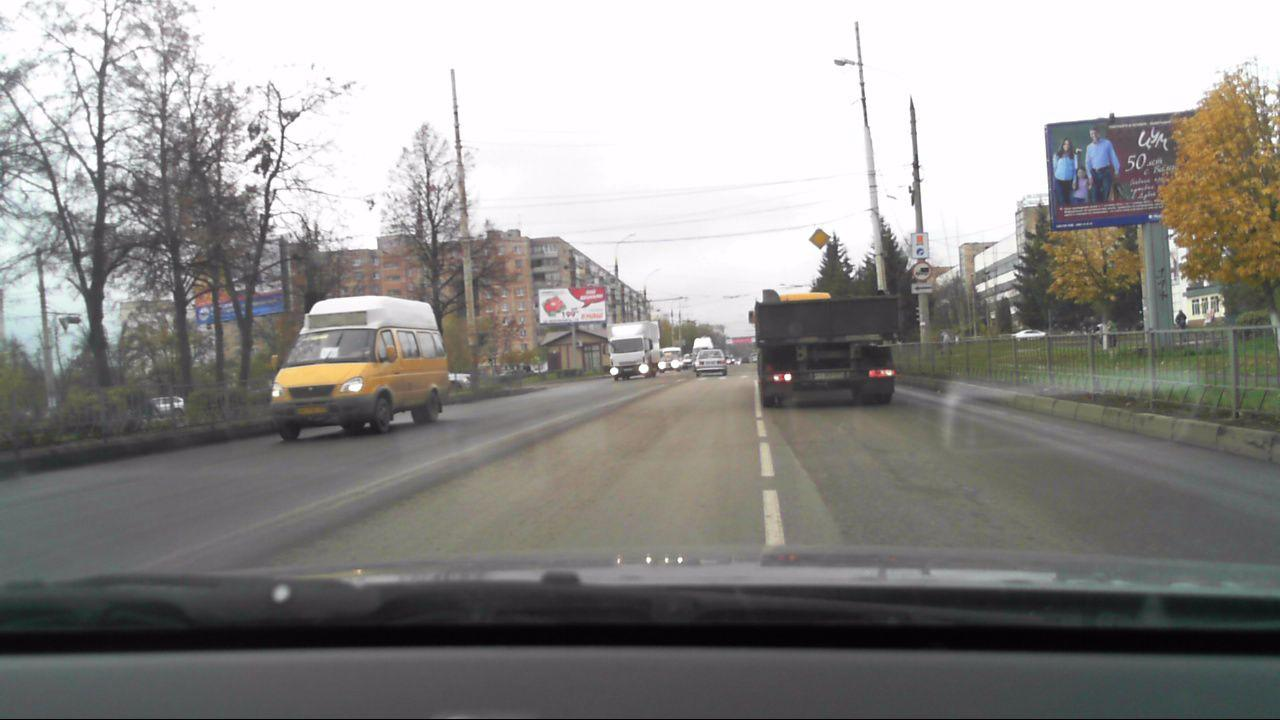2_1: (806, 226, 831, 249)
3_4: (911, 261, 932, 282)
4_8_2: (909, 232, 930, 259)
8_3_2: (911, 282, 934, 295)
